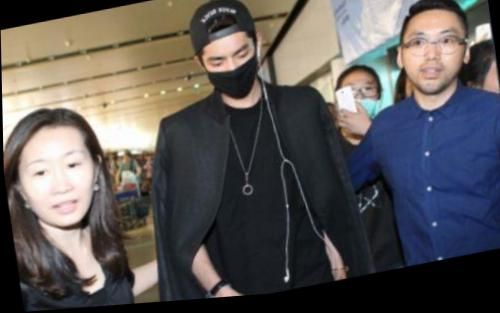NONE: (22, 147, 96, 229), (400, 30, 472, 104)
OK: (199, 41, 264, 109)
WRONG: (334, 82, 384, 135)
